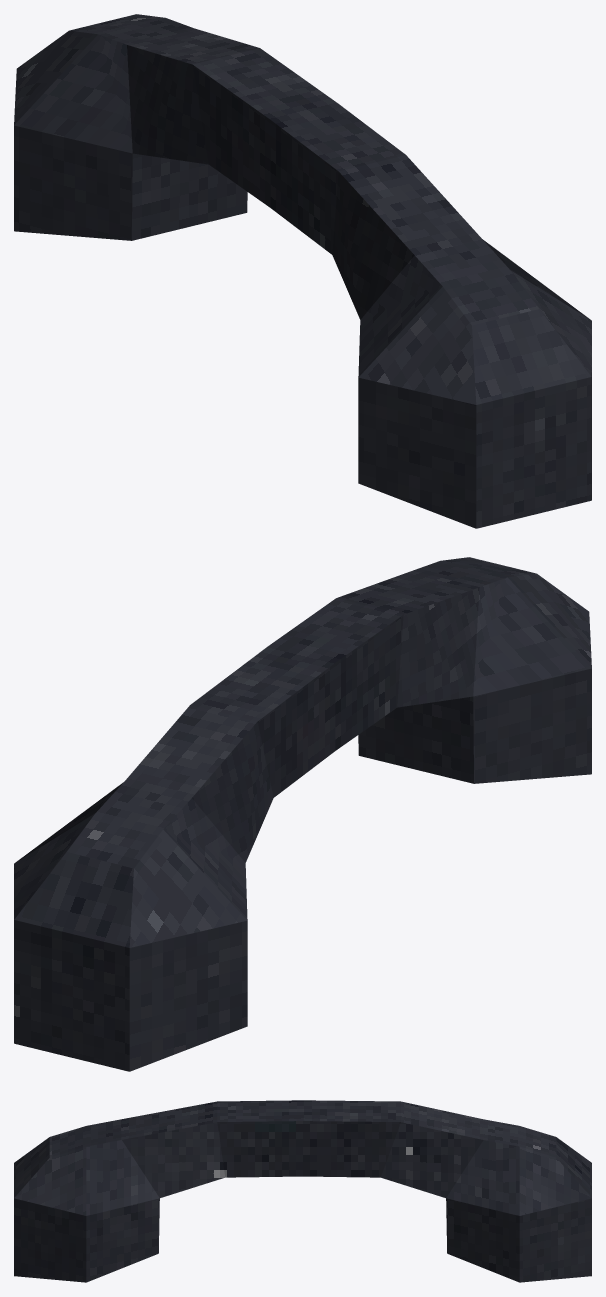
Rendered from PhoneHandset.glb.
The picture shows the model from 3 angles, top to bottom: view 1: azimuth 30°, elevation 25°; view 2: azimuth 150°, elevation 25°; view 3: azimuth 270°, elevation 25°; orthographic projection. The views are drawn at different scales.
Visible parts, largest first — view 1: Handset; view 2: Handset; view 3: Handset.
Boxes of the visible parts, <box> form: Handset: <box>14,14,591,528</box>; Handset: <box>14,557,591,1071</box>; Handset: <box>14,1100,591,1282</box>.
Size of the model in its own units: 1.38 by 1.33 by 4.72.
2 materials, 2 textured.
